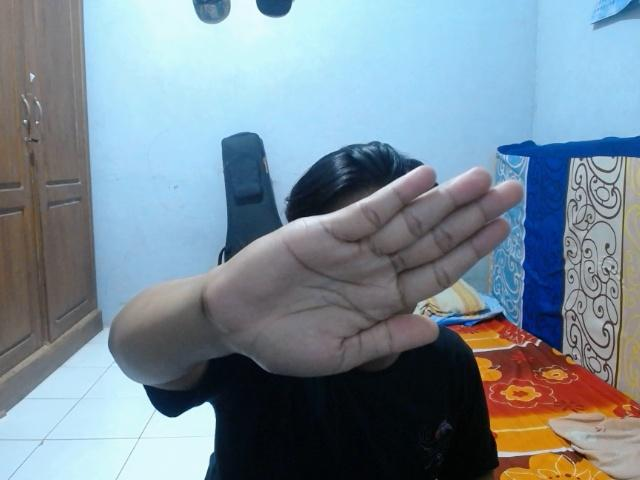Release: (199, 156, 527, 384)
